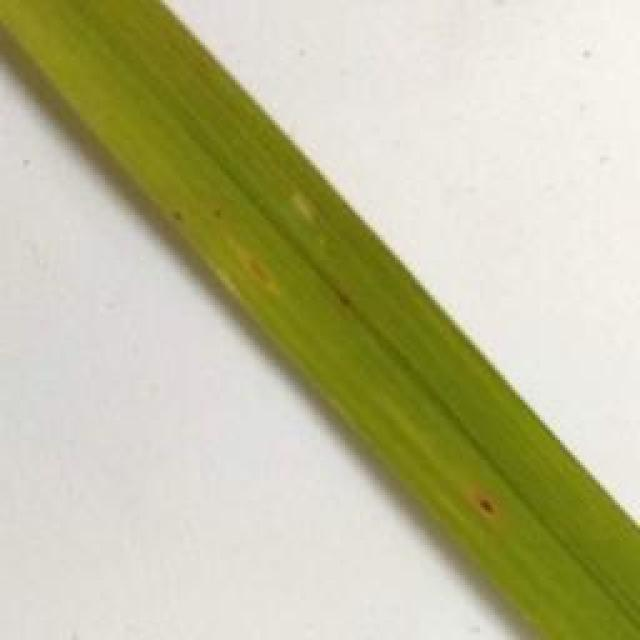Brown_Spot: (235, 240, 298, 311), (441, 472, 521, 524), (167, 199, 201, 245), (202, 187, 228, 228), (328, 284, 355, 316)
